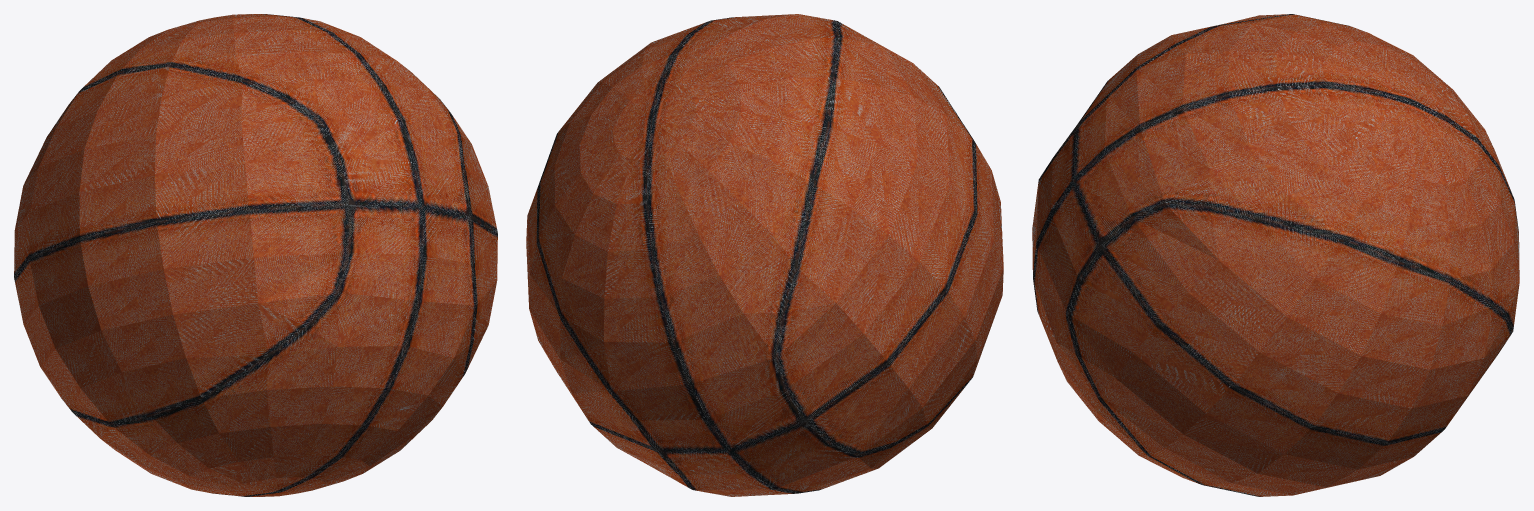
File: basketball.dae
3 views of the same model, side by side, from view 1: azimuth 30°, elevation 25°; view 2: azimuth 150°, elevation 25°; view 3: azimuth 270°, elevation 25° (orthographic).
Parts seen in each view (by area): view 1: skpC70B; view 2: skpC70B; view 3: skpC70B.
Part boxes in pixels (x1,y1,x2,y2): skpC70B: (14, 14, 497, 496); skpC70B: (526, 14, 1003, 496); skpC70B: (1032, 14, 1519, 496).
Bounding box in the file's own units: 10.47 × 10.57 × 10.44.
Materials: 2 (1 with a texture image).
